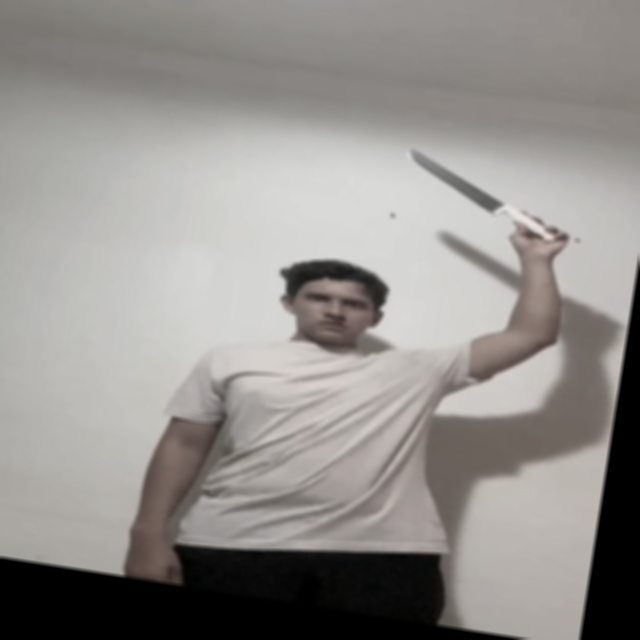Sharp-Object: (400, 145, 511, 211)
